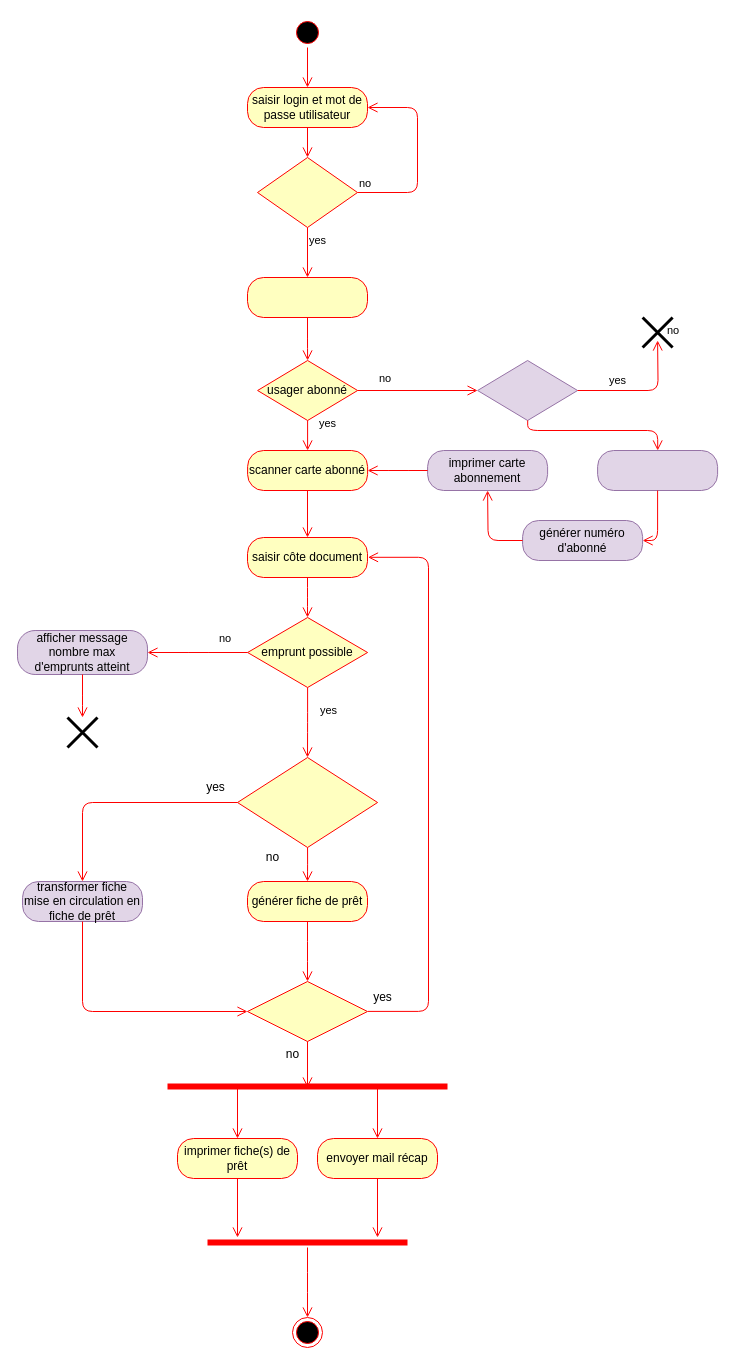
Image size: 736x1365. Some labels were removed from this diagram. The centre of each missing label's shape, as x and y in pixels:
"autre document" belongs at point 307,1011.
"confirmer la connexion" belongs at point 307,297.
"identification valide" belongs at point 307,192.
"le document est un CD_ROM" belongs at point 307,802.
"saisir nouvelle fiche lecteur" belongs at point 657,470.
"utilisateur bénévole" belongs at point 527,390.
